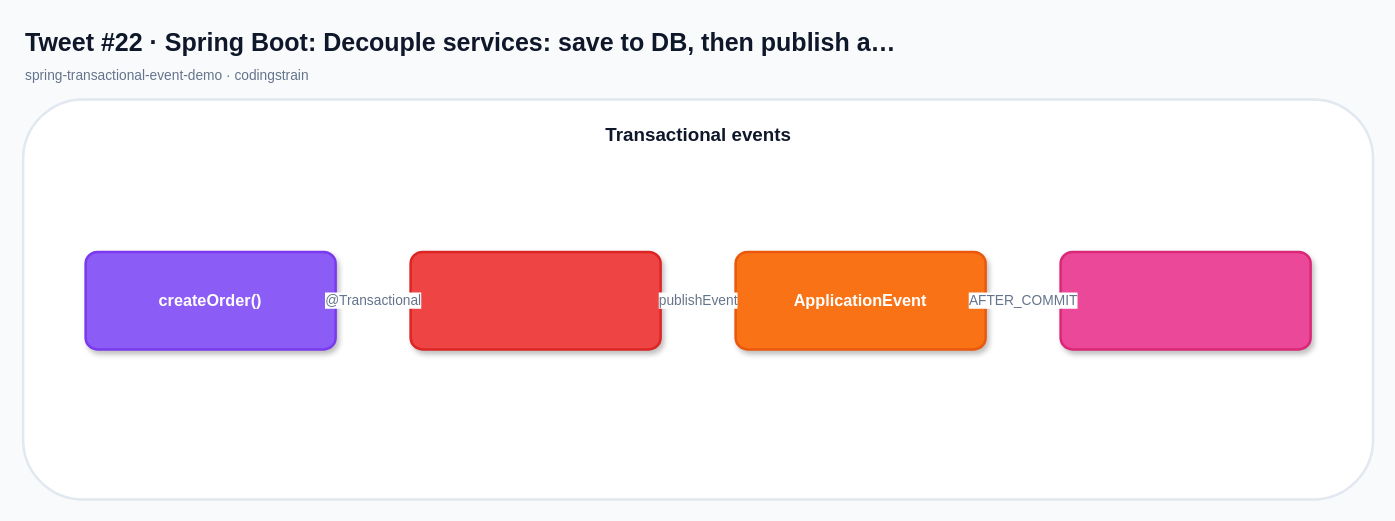
Image size: 1395x521. Some labels were removed from this diagram. Here are the shapes that lost their labels. From the top down, the centre of each, then its label:
At (536,302): "DB commit".
At (1186,302): "@TransactionalEventListener".
